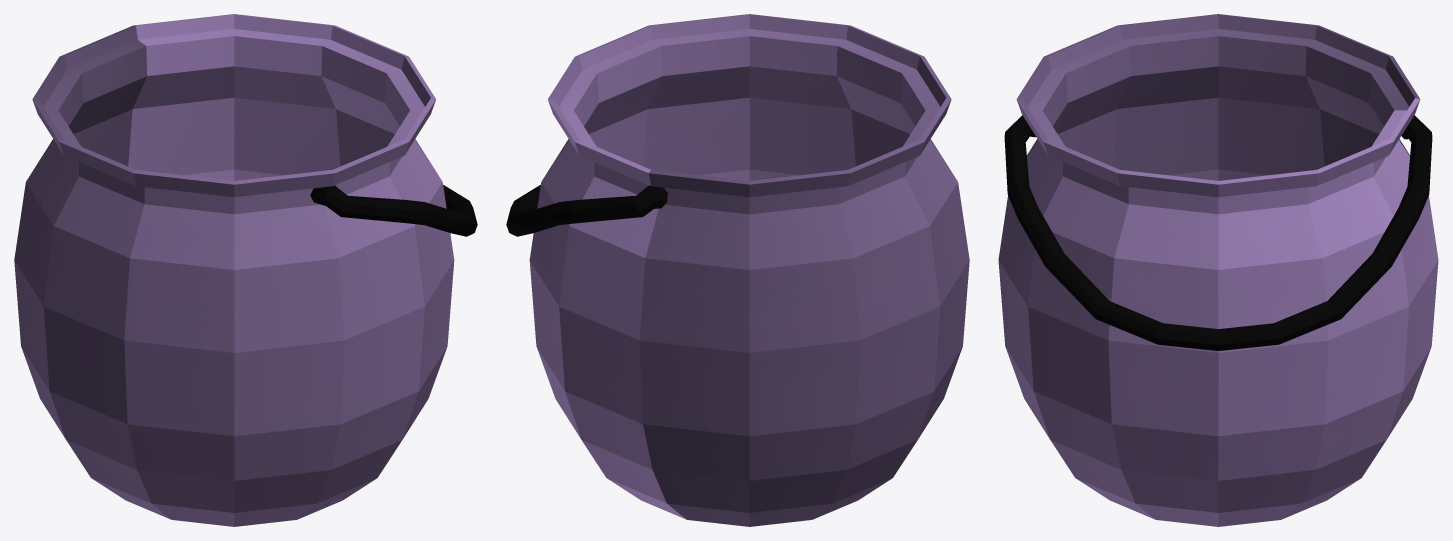
File: Cauldron_2.fbx
3 views of the same model, side by side, from view 1: azimuth 30°, elevation 25°; view 2: azimuth 150°, elevation 25°; view 3: azimuth 270°, elevation 25° (orthographic).
Parts seen in each view (by area): view 1: Cauldron 2; view 2: Cauldron 2; view 3: Cauldron 2.
Boxes of the visible parts, left/top/right/bottom form: Cauldron 2: left=14, top=14, right=477, bottom=526; Cauldron 2: left=506, top=14, right=969, bottom=526; Cauldron 2: left=998, top=14, right=1438, bottom=526.
Size of the model in its own units: 41.86 by 38.96 by 39.74.
